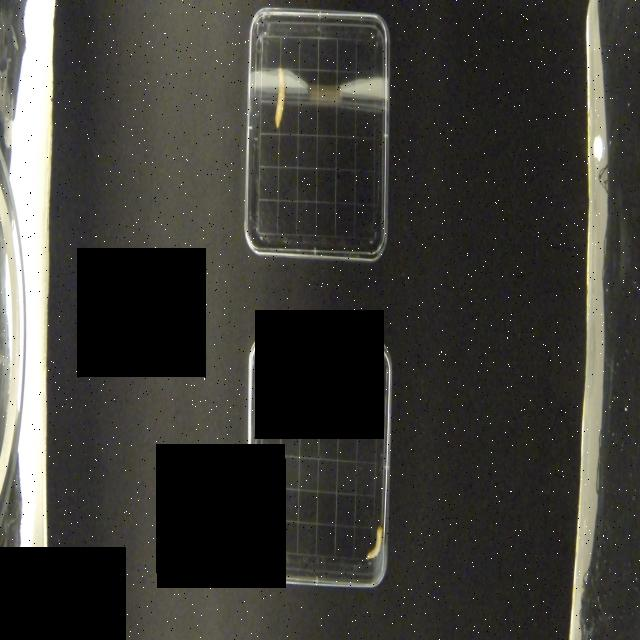larva: (366, 520, 384, 562), (275, 66, 285, 130)
